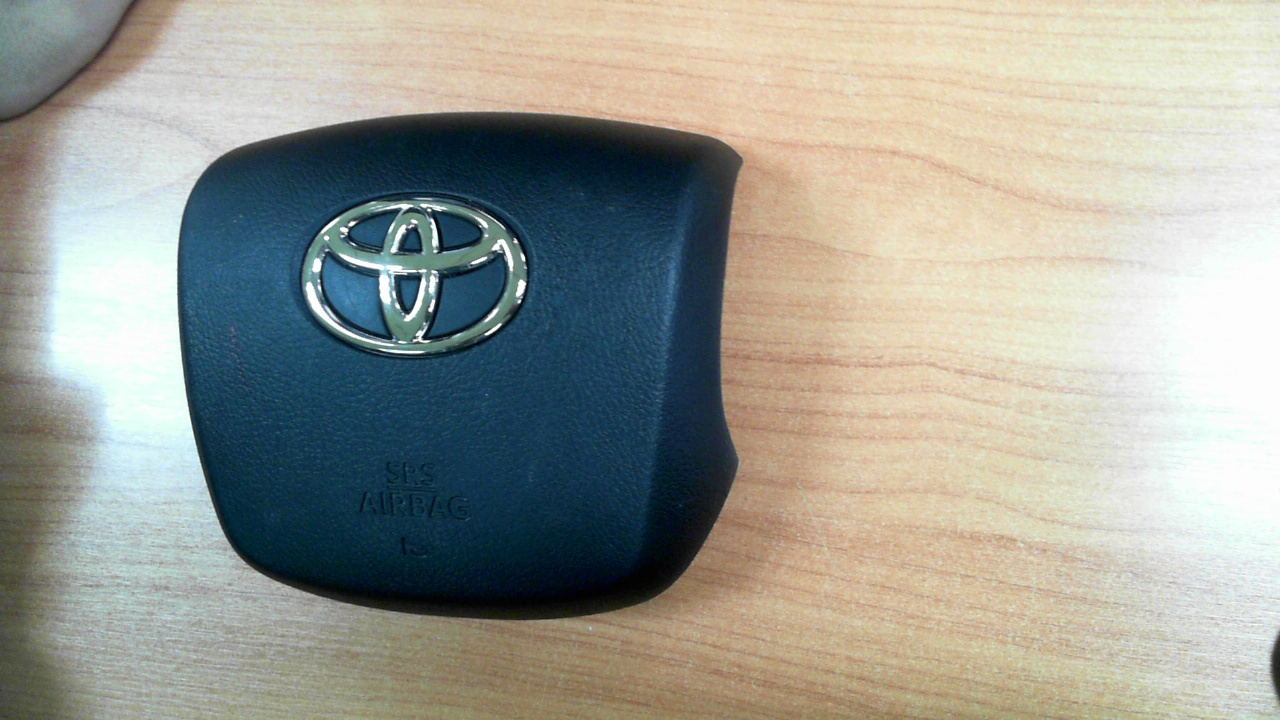Airbag: (176, 112, 745, 622)
Toyota: (301, 196, 528, 357)
